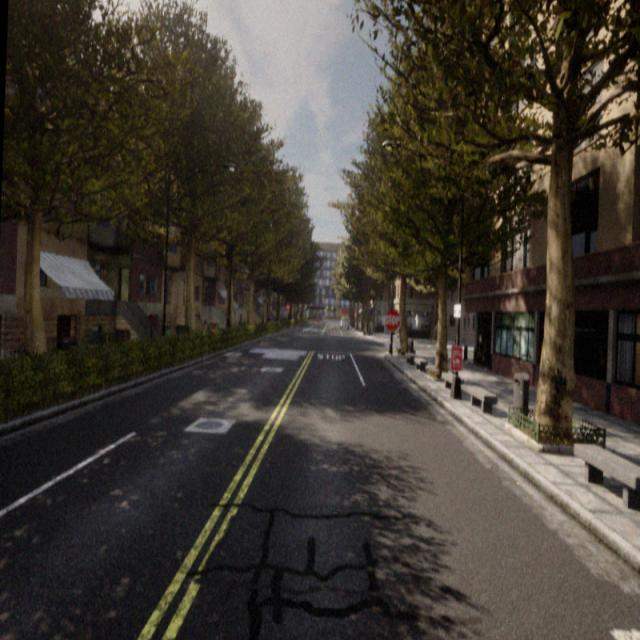stop sign: (382, 306, 402, 333)
